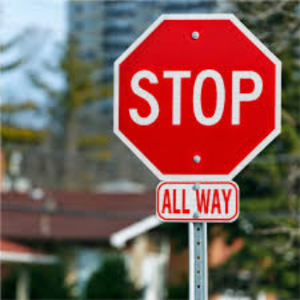STOP_SIGN: (112, 12, 281, 181)
